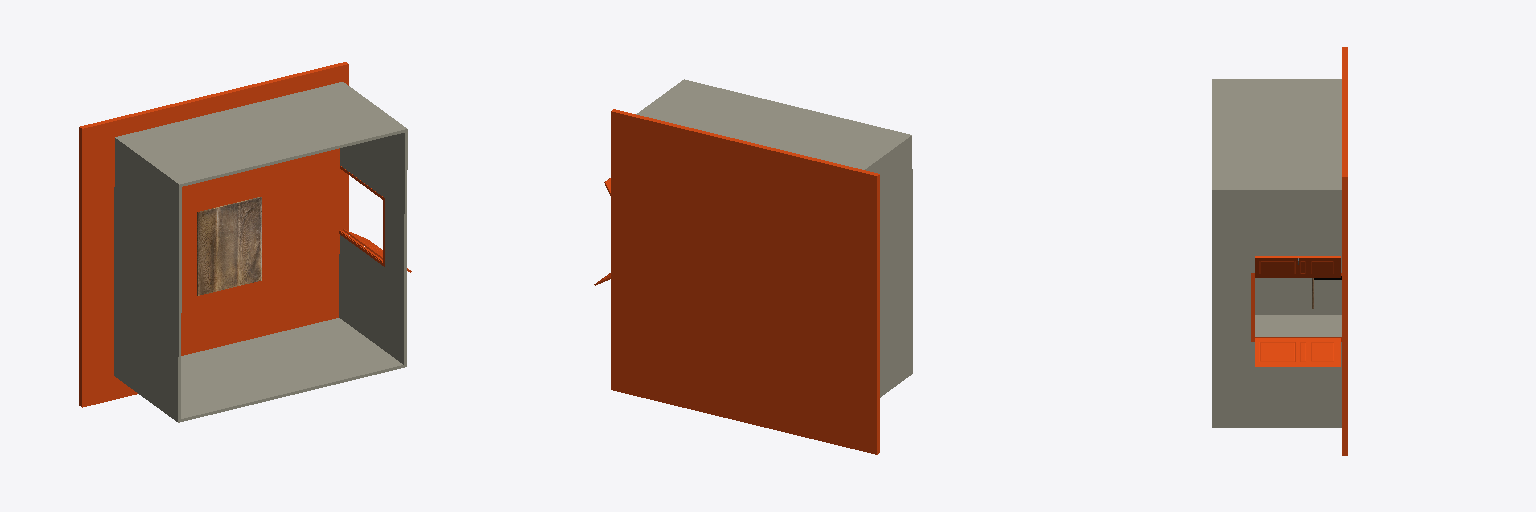
The picture shows the model from 3 angles: view 1: azimuth 30°, elevation 25°; view 2: azimuth 150°, elevation 25°; view 3: azimuth 270°, elevation 25°; orthographic projection.
Visible parts, largest first — view 1: Object_1, Cube, Object_0.001, Object_4; view 2: Cube, Object_1; view 3: Object_1, Object_7, Cube.
Boxes of the visible parts, x1=… form: Object_1: x1=114, y1=82, x2=407, y2=422; Cube: x1=79, y1=62, x2=348, y2=407; Object_0.001: x1=197, y1=197, x2=261, y2=295; Object_4: x1=339, y1=166, x2=384, y2=266; Cube: x1=611, y1=109, x2=879, y2=454; Object_1: x1=636, y1=79, x2=912, y2=397; Object_1: x1=1212, y1=79, x2=1341, y2=427; Object_7: x1=1255, y1=256, x2=1340, y2=366; Cube: x1=1342, y1=47, x2=1347, y2=455.
Size of the model in its own units: 5.37 by 5 by 2.2.
Materials: 6 (1 with a texture image).